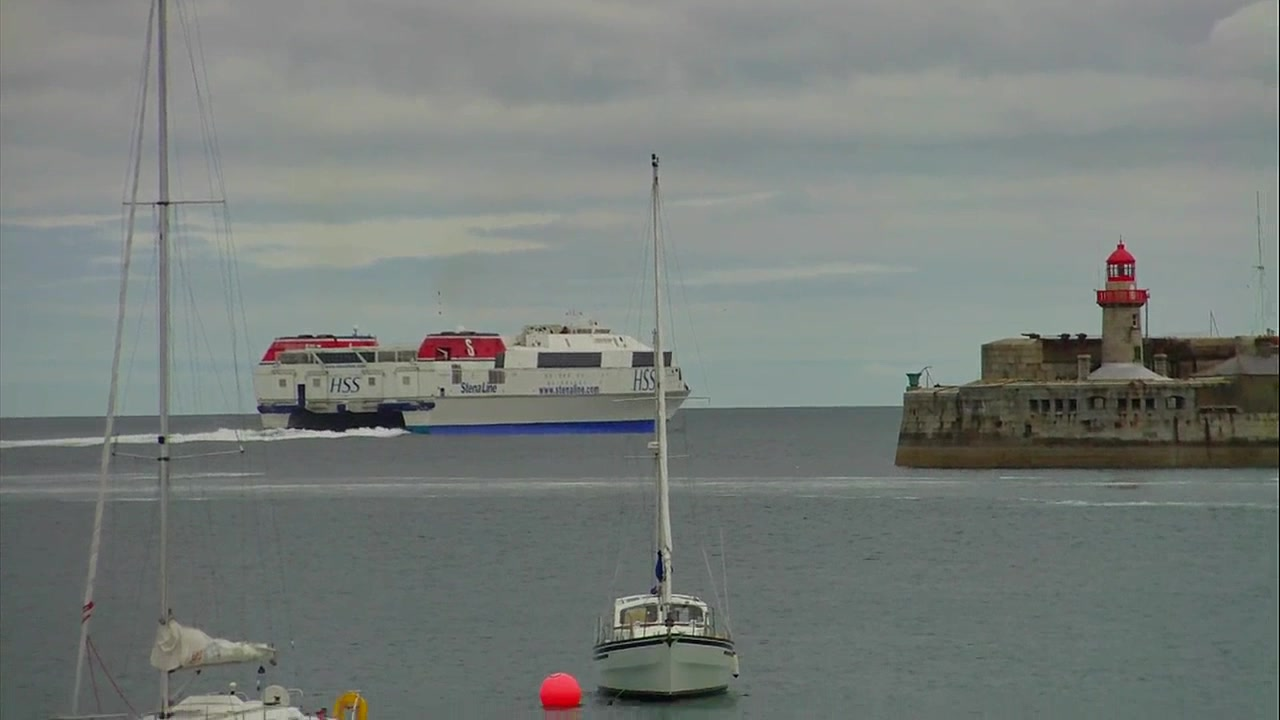boat: (246, 312, 688, 426)
